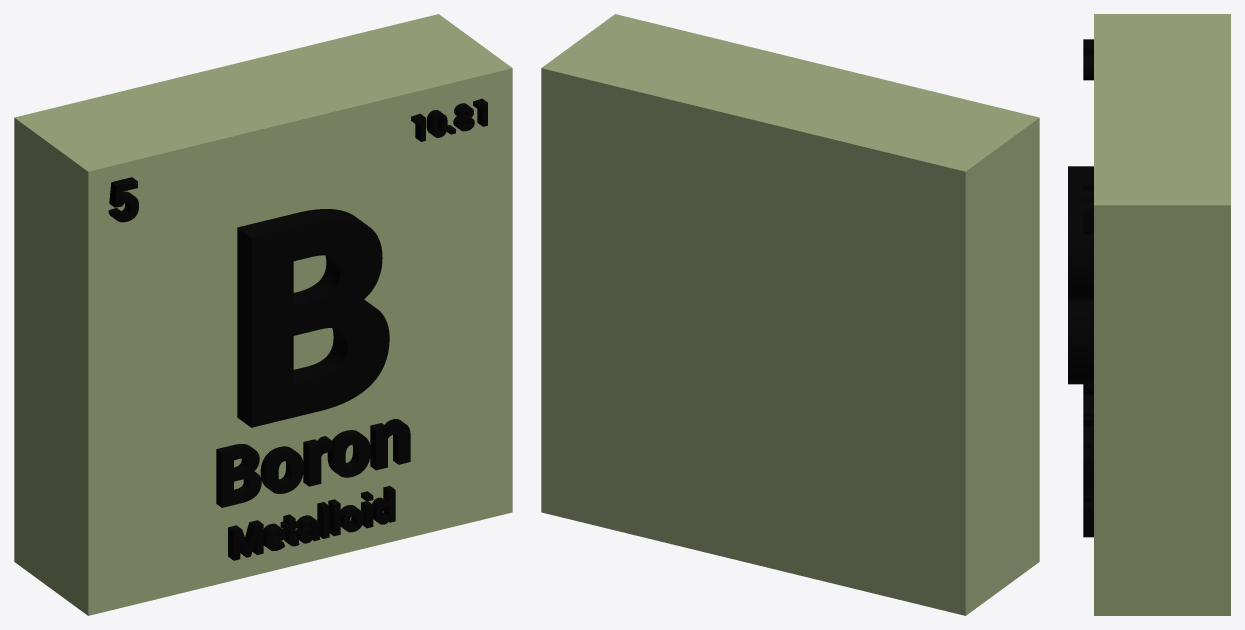
3 renders of one model, left to right at view 1: azimuth 30°, elevation 25°; view 2: azimuth 150°, elevation 25°; view 3: azimuth 270°, elevation 25°, orthographic. The views are drawn at different scales.
Visible parts, largest first — view 1: Cube, Text, Text.001, Text.002, Text.004, Text.003; view 2: Cube; view 3: Cube, Text, Text.001, Text.004, Text.002, Text.003.
Boxes of the visible parts, x1,y1,x2,y2 form: Cube: [14, 14, 512, 615]; Text: [237, 209, 389, 427]; Text.001: [216, 419, 410, 507]; Text.002: [228, 486, 395, 560]; Text.004: [411, 98, 487, 141]; Text.003: [108, 177, 138, 222]; Cube: [541, 14, 1039, 615]; Cube: [1094, 14, 1230, 615]; Text: [1068, 166, 1093, 384]; Text.001: [1083, 384, 1093, 492]; Text.004: [1083, 181, 1093, 233]; Text.002: [1083, 492, 1093, 537]; Text.003: [1083, 39, 1093, 80].
Size of the model in its own units: 178 by 178 by 63.95.
